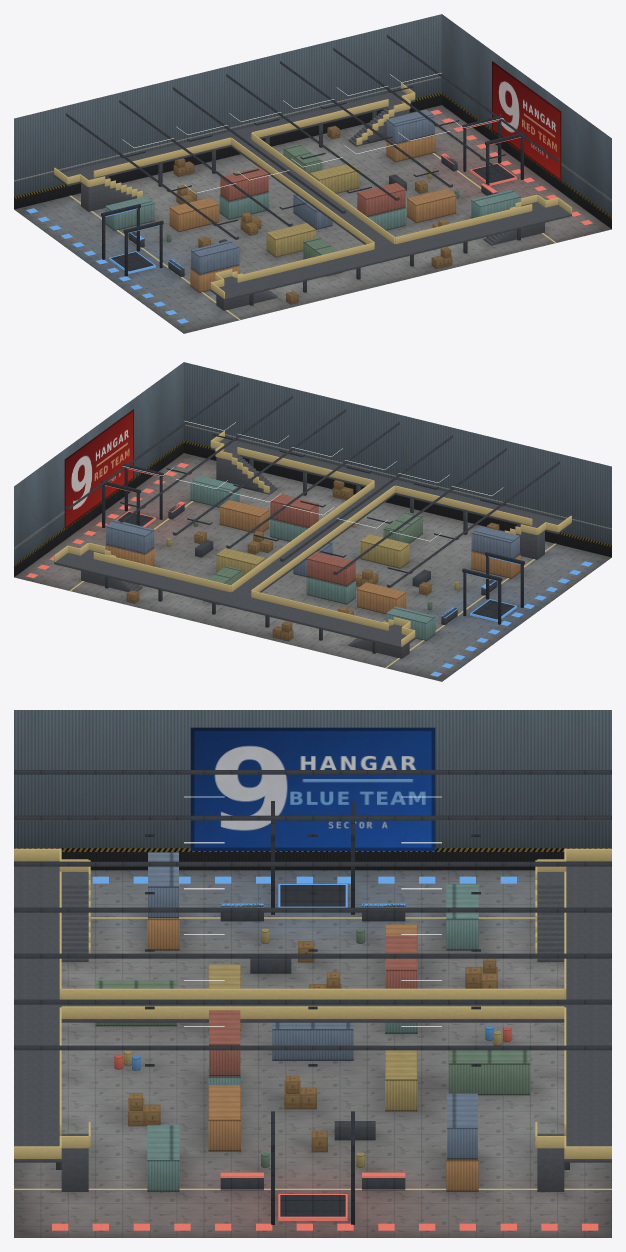
The model's file is hangar.glb.
3 renders of one model, top to bottom at view 1: azimuth 30°, elevation 25°; view 2: azimuth 150°, elevation 25°; view 3: azimuth 270°, elevation 25°, orthographic. The views are drawn at different scales.
Visible parts, largest first — view 1: Map; view 2: Map; view 3: Map.
Boxes of the visible parts, x1,y1,x2,y2 form: Map: (14, 14, 611, 333); Map: (14, 362, 611, 681); Map: (14, 710, 611, 1237).
Size of the model in its own units: 64 by 13 by 44.
Materials: 12 (11 with a texture image).
